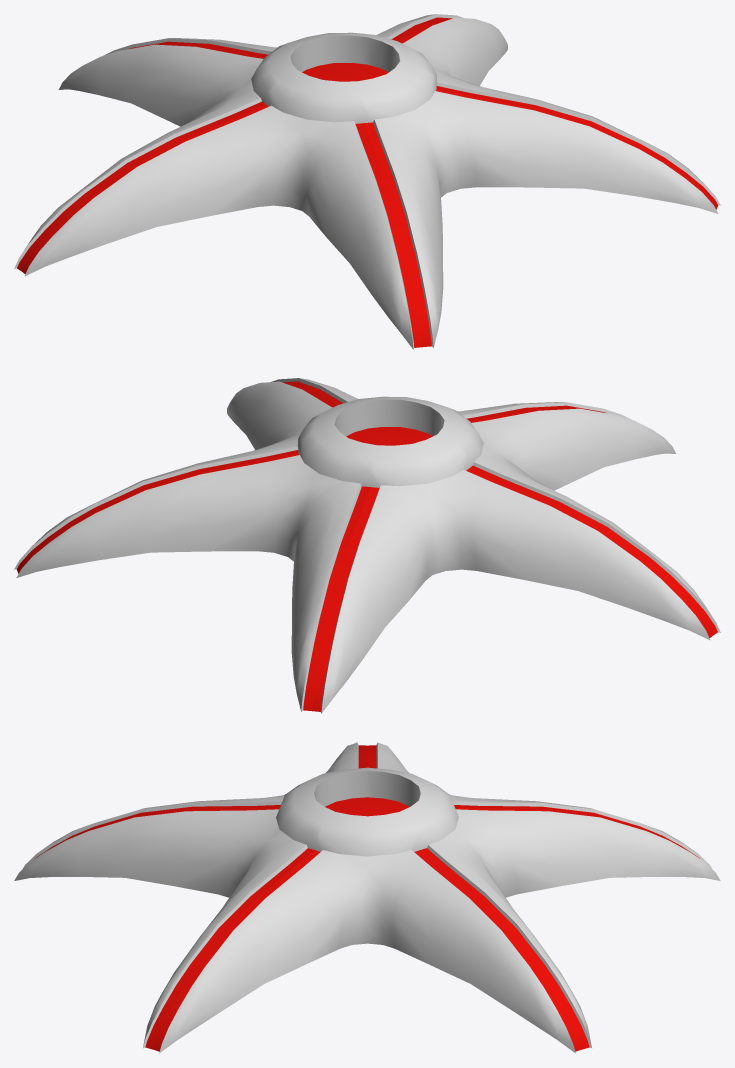
The model's file is star 2.fbx.
3 views of the same model, one above another, from view 1: azimuth 30°, elevation 25°; view 2: azimuth 150°, elevation 25°; view 3: azimuth 270°, elevation 25° (orthographic). The views are drawn at different scales.
Visible parts, largest first — view 1: Starfish.001; view 2: Starfish.001; view 3: Starfish.001.
Part boxes in pixels (x1=…): Starfish.001: x1=14, y1=14, x2=720, y2=349; Starfish.001: x1=14, y1=378, x2=720, y2=713; Starfish.001: x1=14, y1=742, x2=720, y2=1053.
Size of the model in its own units: 4.39 by 0.9488 by 4.61.
